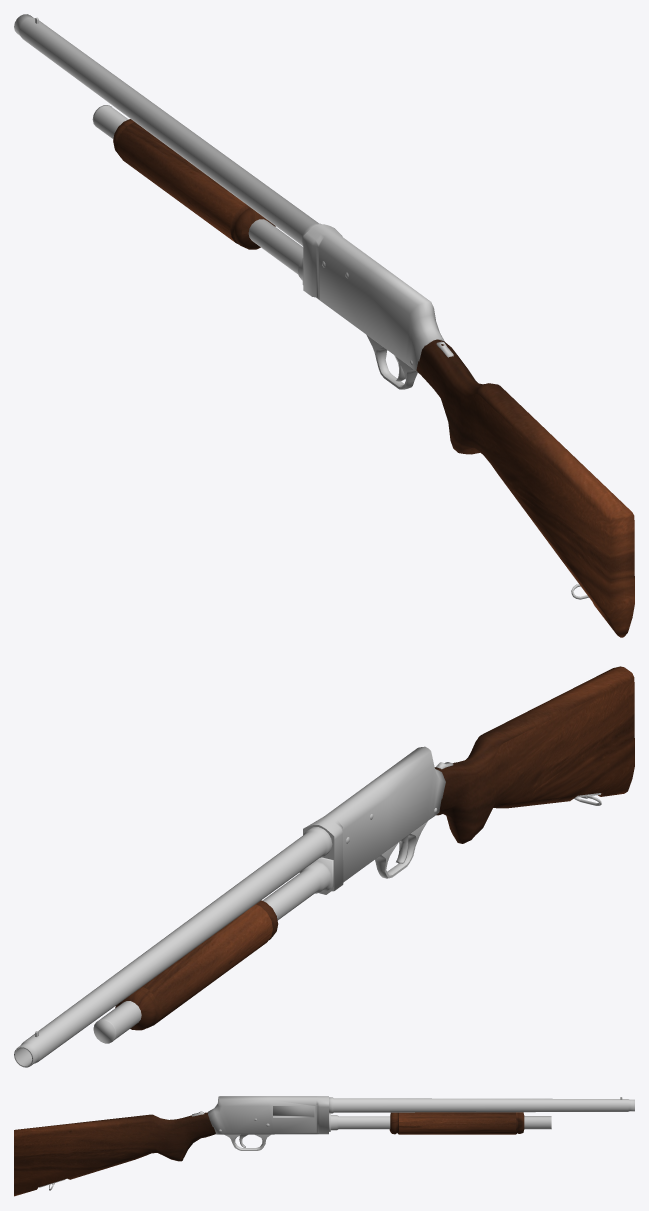
The model's file is shotgun_fbx.fbx.
The picture shows the model from 3 angles, top to bottom: view 1: azimuth 30°, elevation 25°; view 2: azimuth 150°, elevation 25°; view 3: azimuth 270°, elevation 25°; orthographic projection. The views are drawn at different scales.
Parts seen in each view (by area): view 1: polySurface8, polySurface3, polySurface1; view 2: polySurface8, polySurface3, polySurface1; view 3: polySurface8, polySurface3, polySurface1, polySurface7.
Part boxes in pixels (x1,y1,x2,y2): polySurface8: (14,14,588,599); polySurface3: (416,339,634,637); polySurface1: (113,119,275,249); polySurface8: (14,746,601,1067); polySurface3: (434,666,634,843); polySurface1: (115,900,278,1030); polySurface8: (39,1096,634,1190); polySurface3: (14,1112,215,1196); polySurface1: (389,1112,524,1134); polySurface7: (273,1106,314,1116).
Bounding box in the file's own units: 15.19 × 68.5 × 388.
